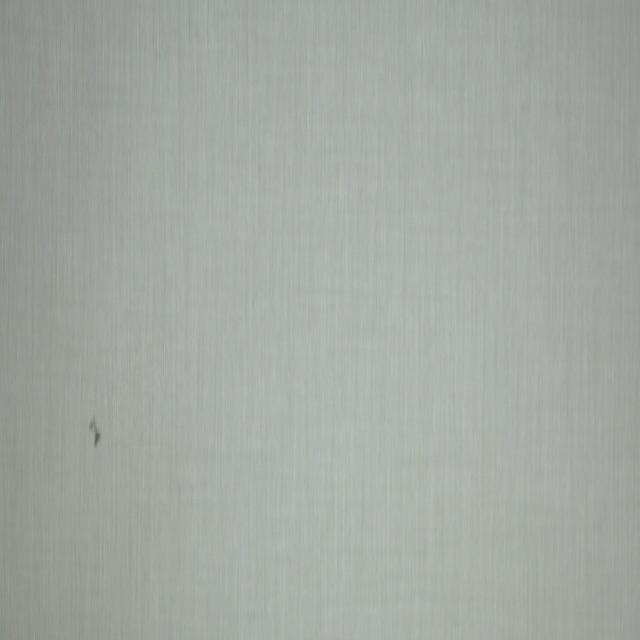dirty: (89, 416, 103, 451)
